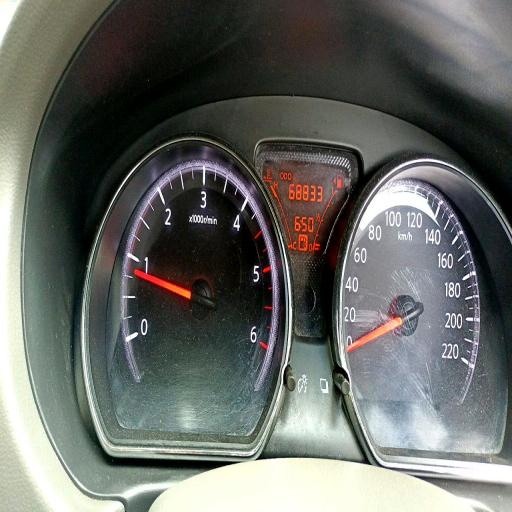tachometer: (121, 156, 279, 395)
